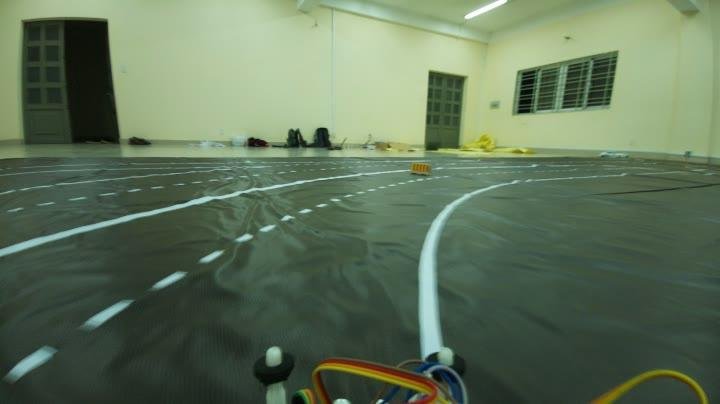roadblock: (410, 161, 435, 175)
